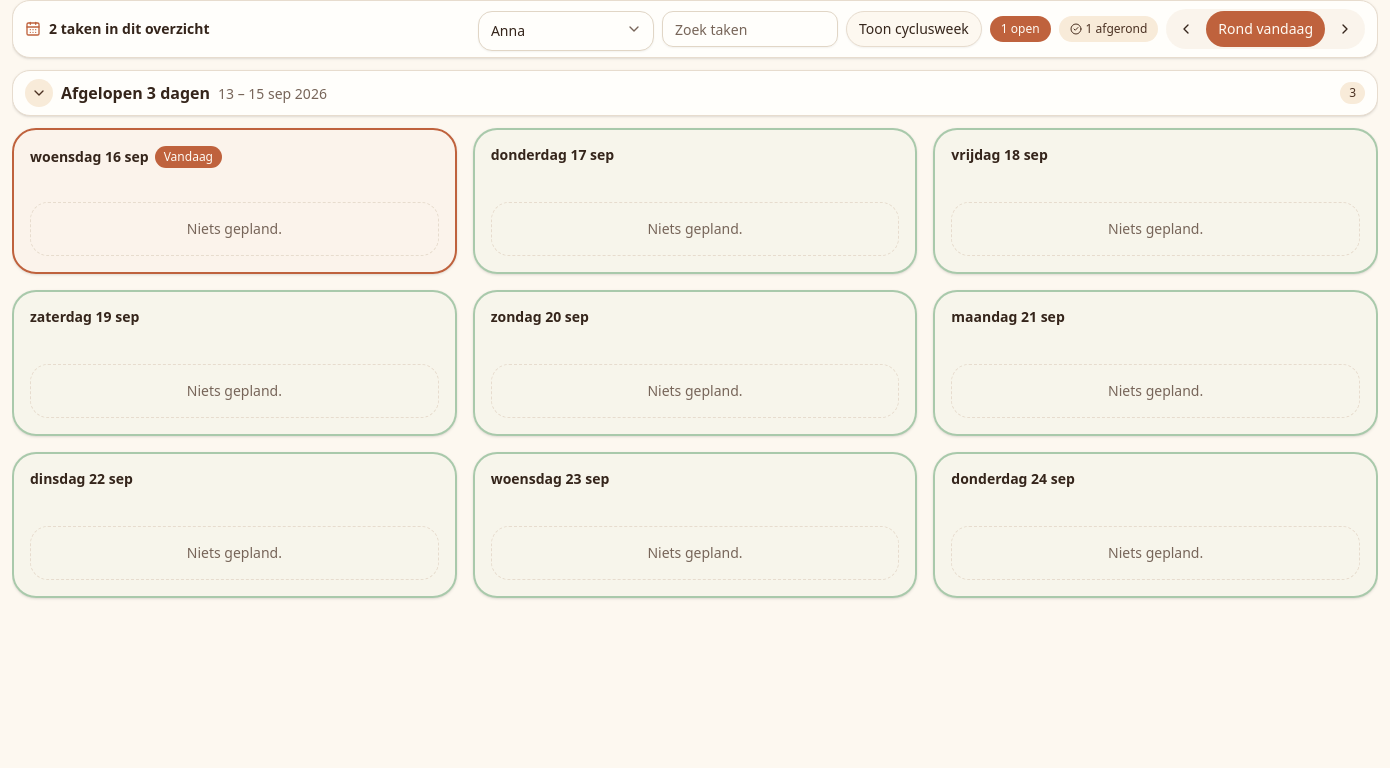
Test: WeekPage › browses between periods and can return to the days around today
Expected: the heading "woensdag 16 sep Vandaag" is shown, x1=30 y1=146 x2=222 y2=168
Click the button named "Volgende periode": point(1345, 29) x1=1327 y1=11 x2=1363 y2=47
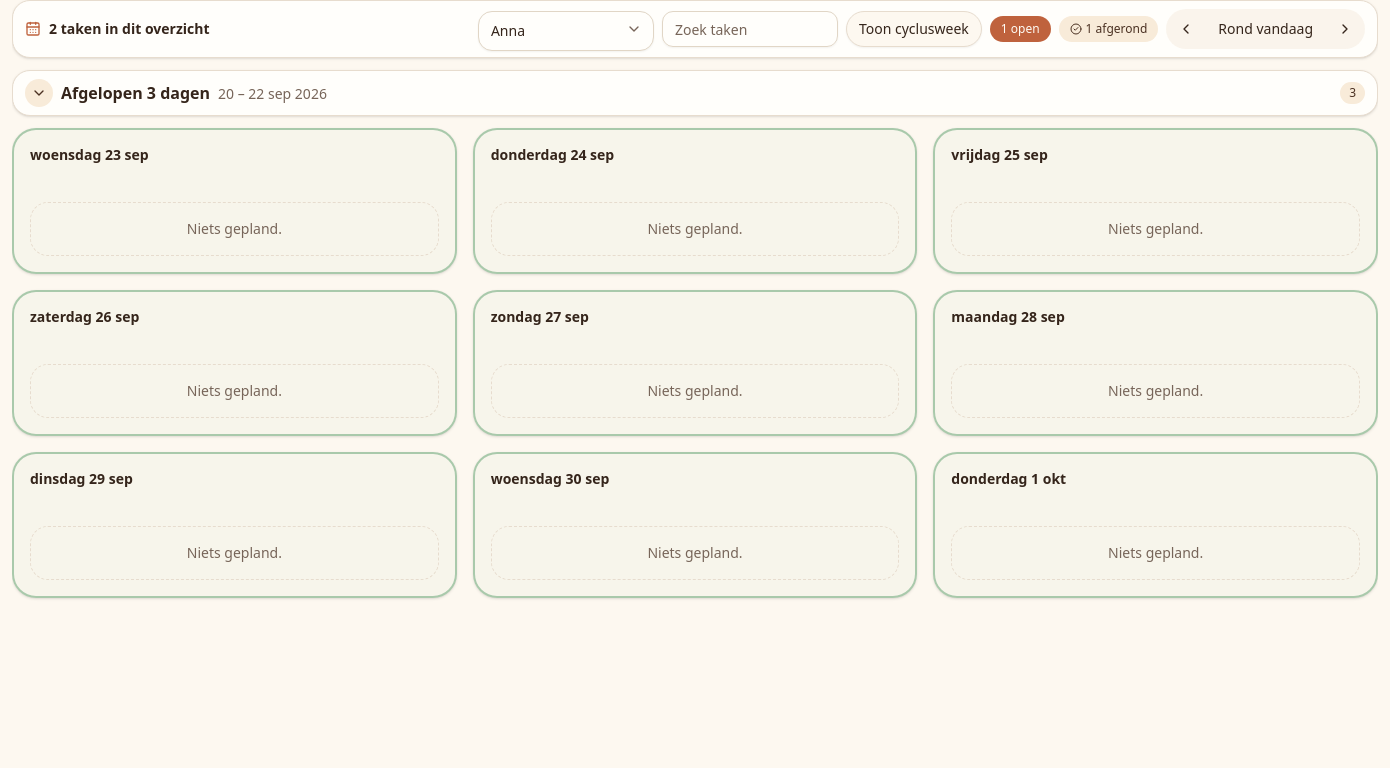
Now the heading "woensdag 23 sep" is shown, box x1=30 y1=146 x2=149 y2=164
Click the button named "Volgende periode": point(1345, 29) x1=1327 y1=11 x2=1363 y2=47
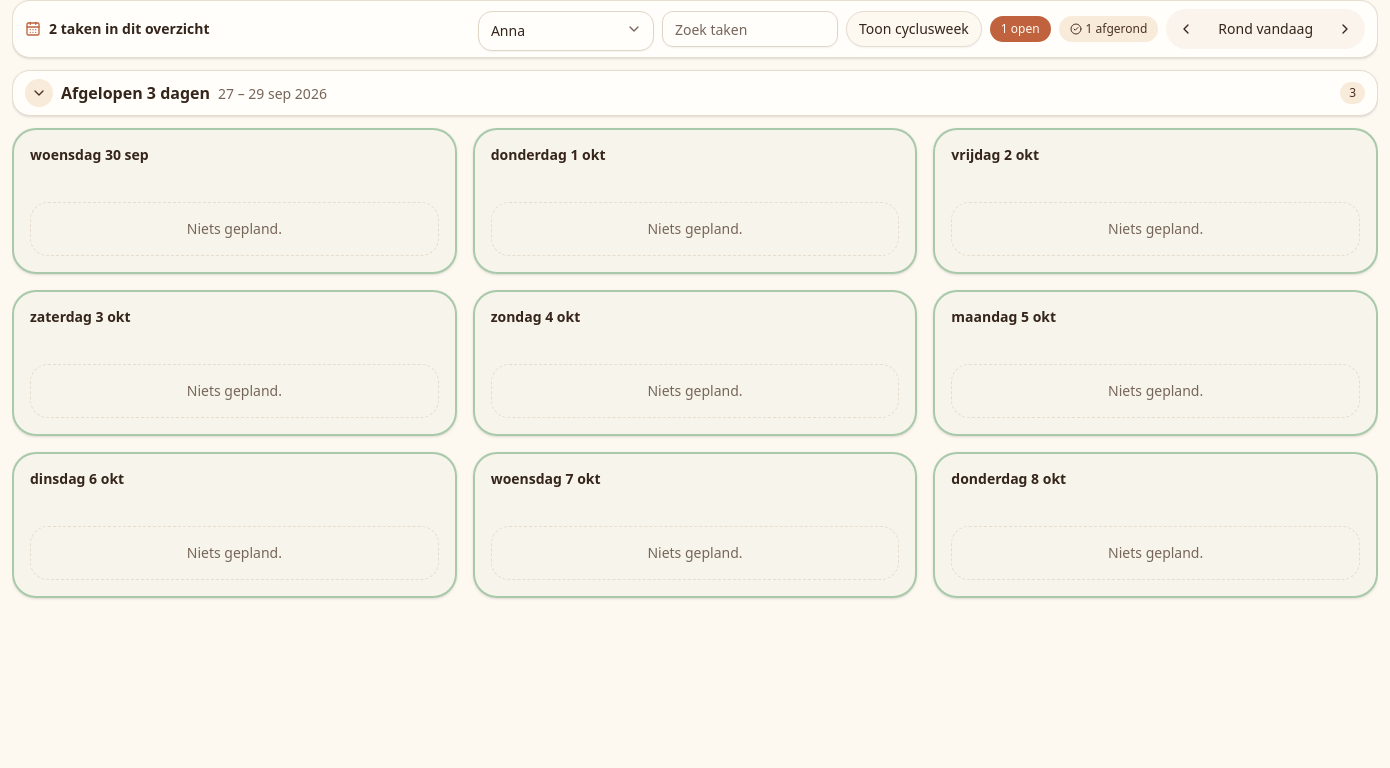
Now the heading "woensdag 30 sep" is shown, box x1=30 y1=146 x2=149 y2=164
Click the button "Rond vandaag": point(1266, 29) x1=1206 y1=11 x2=1325 y2=47
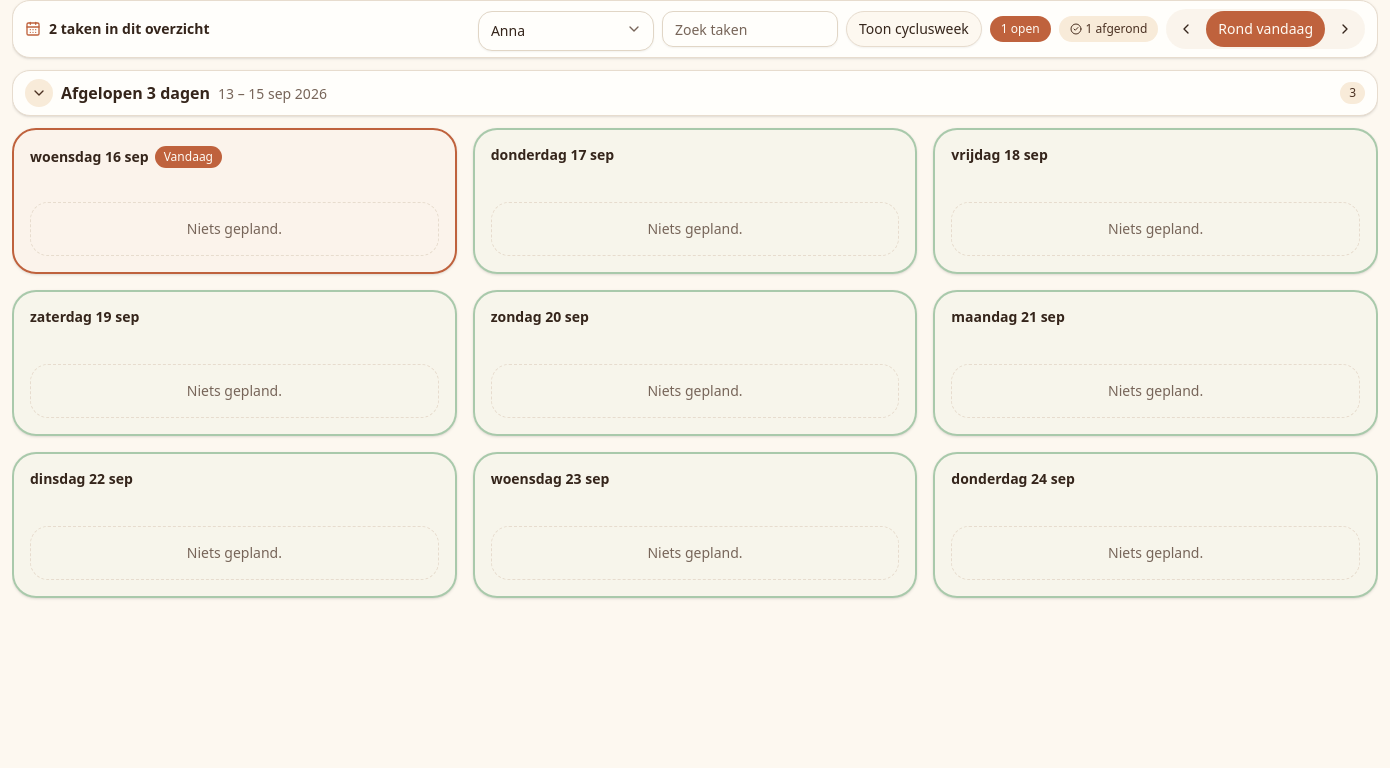
Now the heading "woensdag 16 sep Vandaag" is shown, box x1=30 y1=146 x2=222 y2=168
